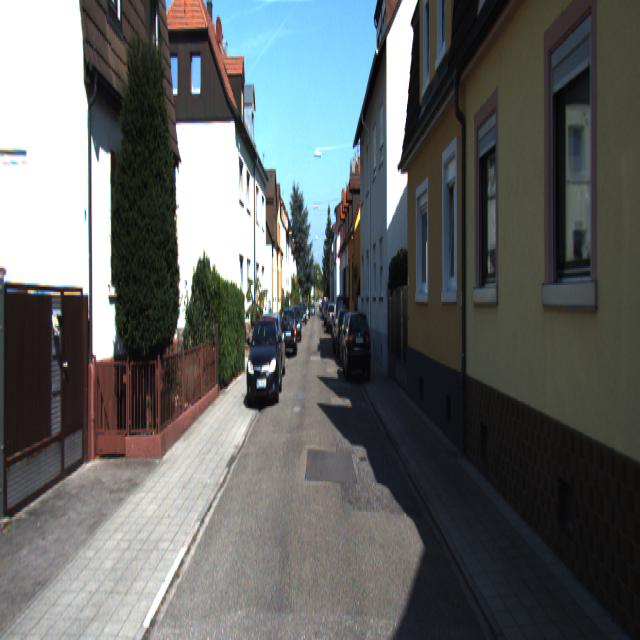Car: (246, 312, 281, 404), (342, 304, 373, 381), (280, 306, 298, 356)
